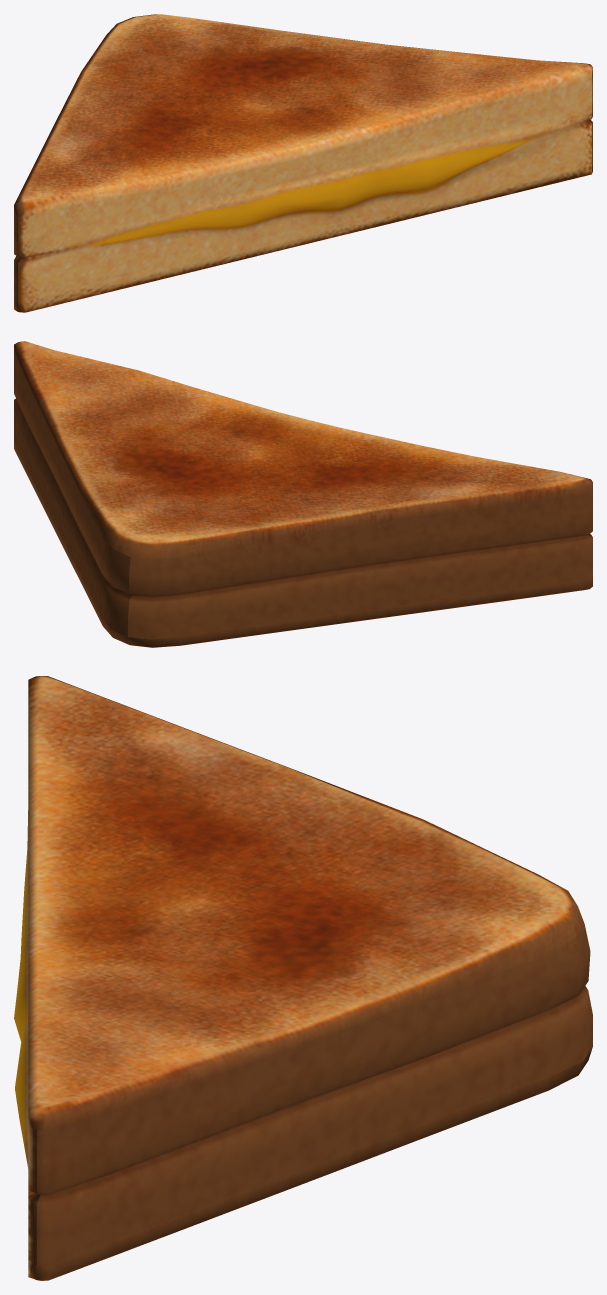
The model's file is GrilledCheeseSand_1.fbx.
3 renders of one model, top to bottom at view 1: azimuth 30°, elevation 25°; view 2: azimuth 150°, elevation 25°; view 3: azimuth 270°, elevation 25°, orthographic. The views are drawn at different scales.
Visible parts, largest first — view 1: GrilledCheeseSand_1; view 2: GrilledCheeseSand_1; view 3: GrilledCheeseSand_1.
Part boxes in pixels (<box>): GrilledCheeseSand_1: <box>14,14,592,312</box>; GrilledCheeseSand_1: <box>14,341,592,647</box>; GrilledCheeseSand_1: <box>14,676,592,1280</box>.
Size of the model in its own units: 75.71 by 13.83 by 42.01.
Materials: 1 (1 with a texture image).
